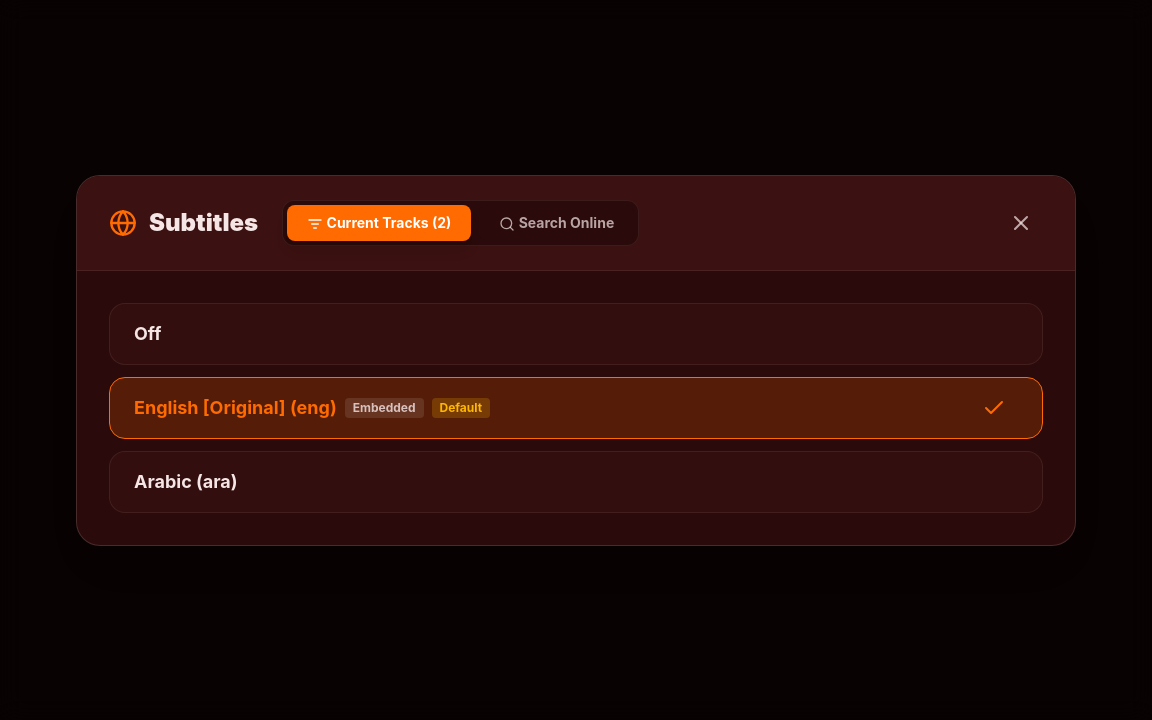
SubtitleModal › displays error if OpenSubtitles is not configured
The width and height of the screenshot is (1152, 720).
Step 1. Click the button "Search Online" → x=557, y=222, box [479, 204, 634, 240]
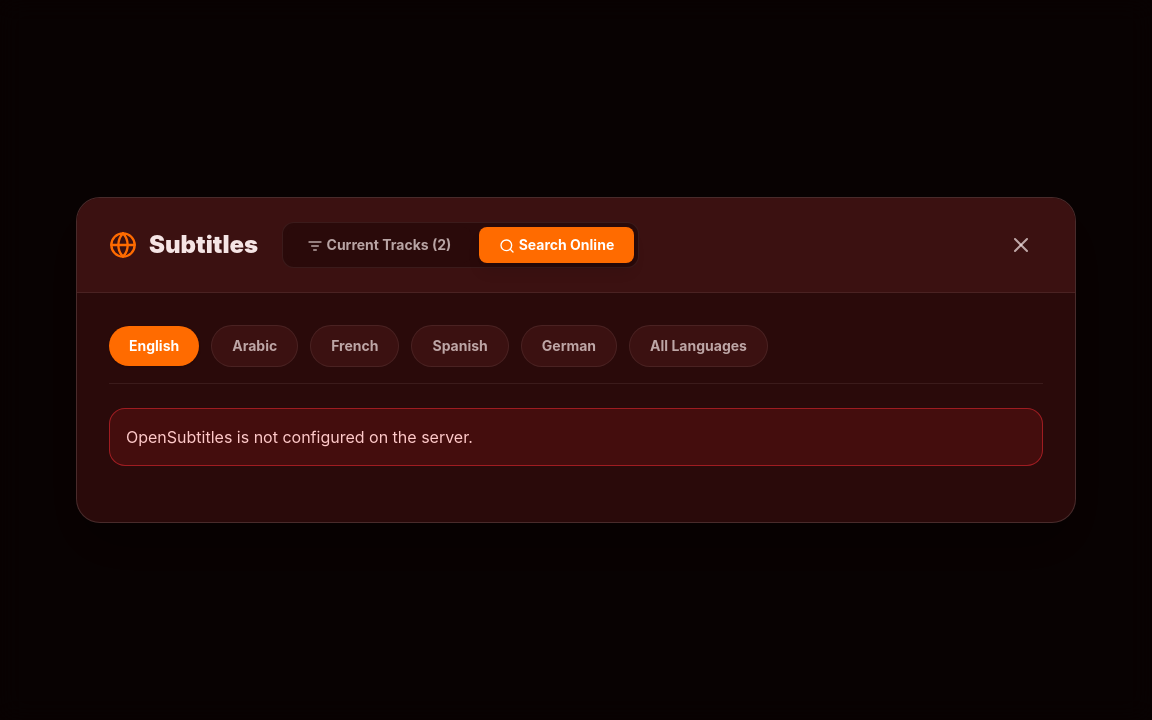
Expected: the text "OpenSubtitles is not configured on the server." is shown, [109, 408, 1043, 466]
